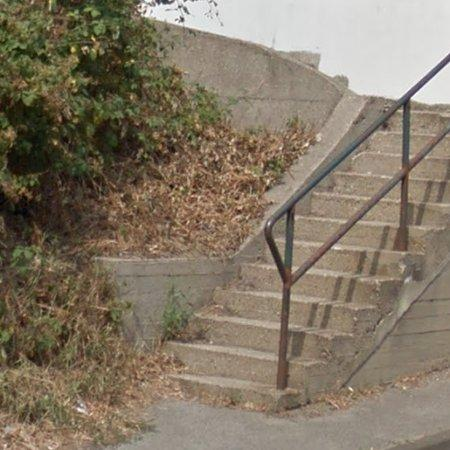stairs: (170, 135, 450, 410), (293, 113, 402, 270)
